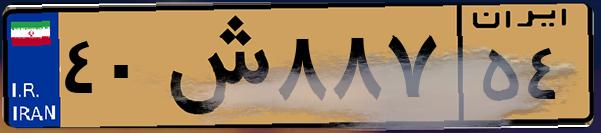0: (110, 28, 158, 98)
4: (57, 26, 110, 100), (525, 38, 570, 115)
5: (475, 38, 525, 113)
7: (385, 28, 445, 110)
8: (270, 28, 330, 110), (330, 28, 385, 110)
ش: (158, 12, 270, 120)
